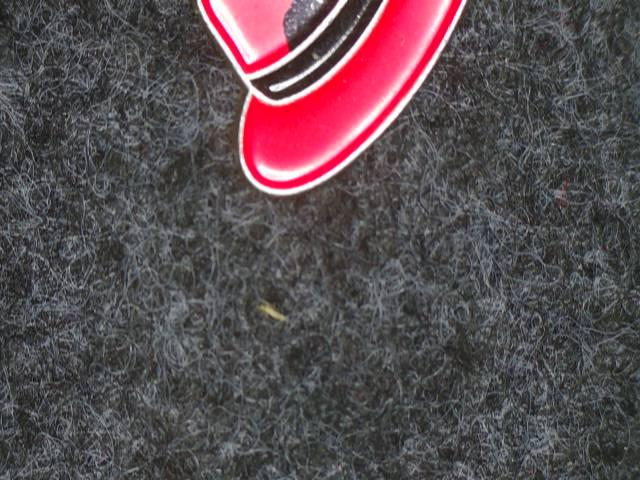Red-Hat: (161, 0, 528, 218)
Scratch: (279, 0, 346, 69)
